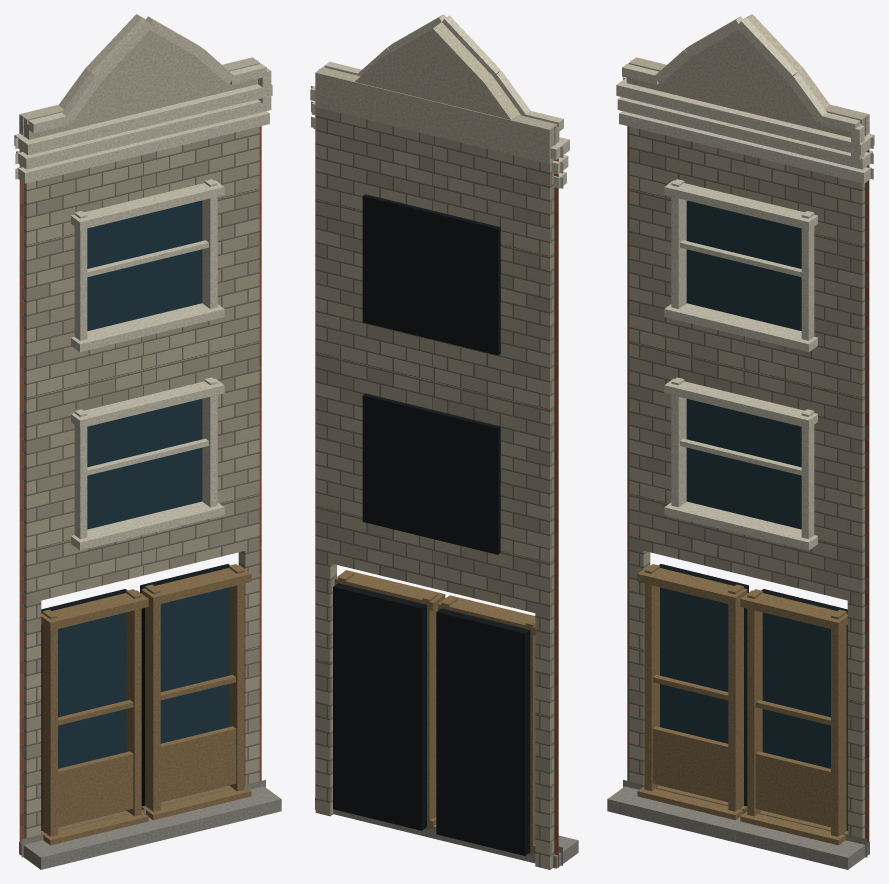
File: RUNDWN11_lod2.glb
The picture shows the model from 3 angles, left to right: view 1: azimuth 30°, elevation 25°; view 2: azimuth 150°, elevation 25°; view 3: azimuth 330°, elevation 25°; orthographic projection.
Parts seen in each view (by area): view 1: RUNDWN11_FRONT_LOD2; view 2: RUNDWN11_FRONT_LOD2; view 3: RUNDWN11_FRONT_LOD2.
Boxes of the visible parts, x1,y1,x2,y2 form: RUNDWN11_FRONT_LOD2: [14, 14, 281, 869]; RUNDWN11_FRONT_LOD2: [310, 14, 578, 869]; RUNDWN11_FRONT_LOD2: [607, 14, 874, 869].
Size of the model in its own units: 3.44 by 10.65 by 0.68.
9 materials, 7 textured.
